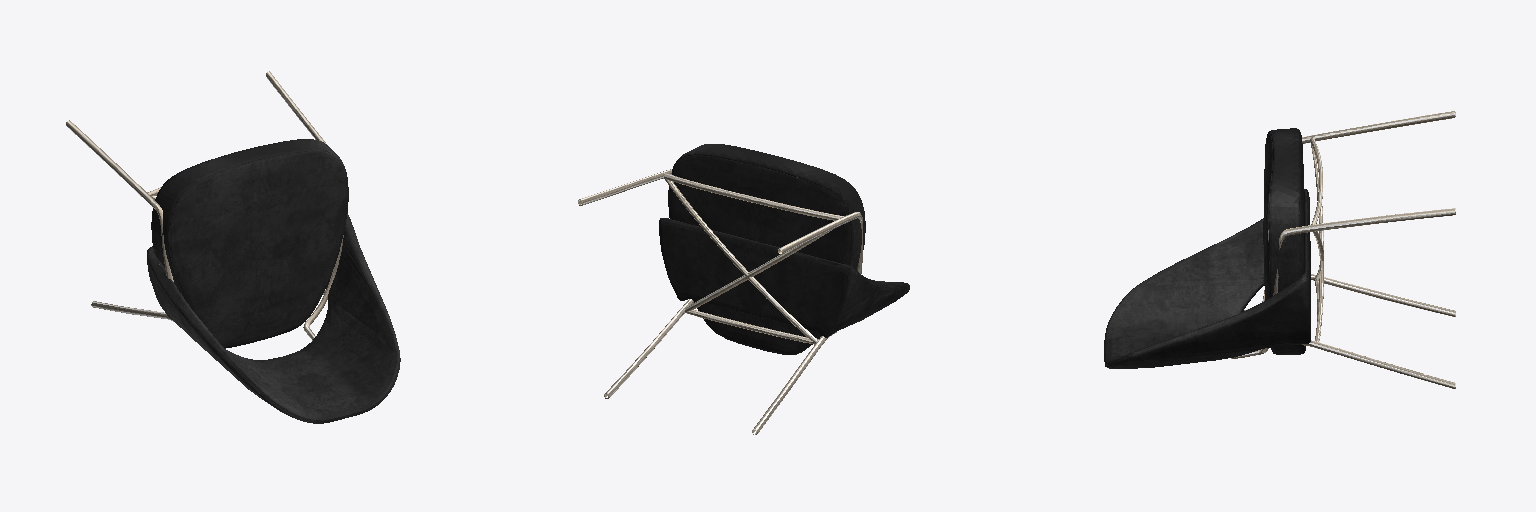
The picture shows the model from 3 angles: view 1: azimuth 30°, elevation 25°; view 2: azimuth 150°, elevation 25°; view 3: azimuth 270°, elevation 25°; orthographic projection.
Bounding box in the file's own units: 0.5422 × 0.5085 × 0.8039.
1 materials, 1 textured.